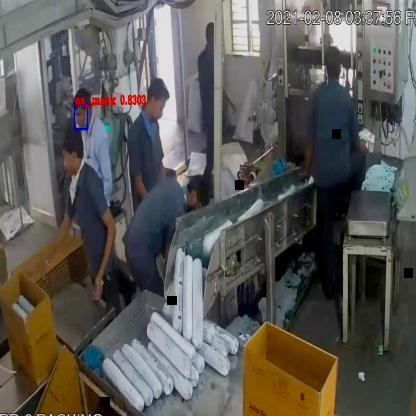no_glove: (92, 201, 117, 300), (40, 208, 76, 258)
